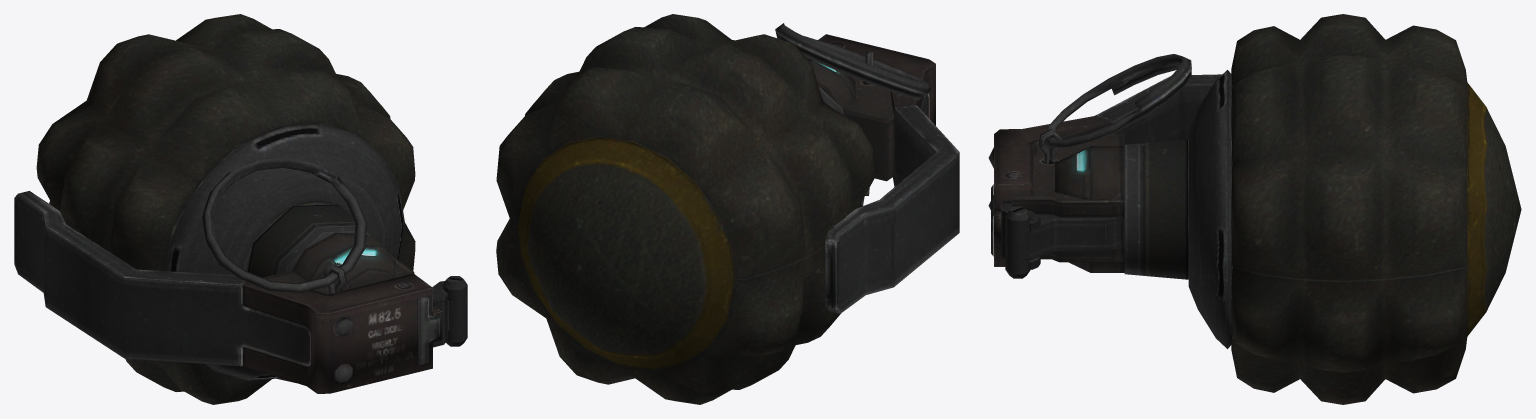
The model's file is t6_wpn_grenade_frag_view_LOD0.obj.
3 renders of one model, left to right at view 1: azimuth 30°, elevation 25°; view 2: azimuth 150°, elevation 25°; view 3: azimuth 270°, elevation 25°, orthographic.
Parts seen in each view (by area): view 1: mtl_t6_wpn_grenade_frag; view 2: mtl_t6_wpn_grenade_frag; view 3: mtl_t6_wpn_grenade_frag.
Part boxes in pixels (x1,y1,x2,y2): mtl_t6_wpn_grenade_frag: [14, 14, 467, 404]; mtl_t6_wpn_grenade_frag: [496, 14, 959, 404]; mtl_t6_wpn_grenade_frag: [988, 14, 1521, 404].
Size of the model in its own units: 8.46 by 7.62 by 10.89.
